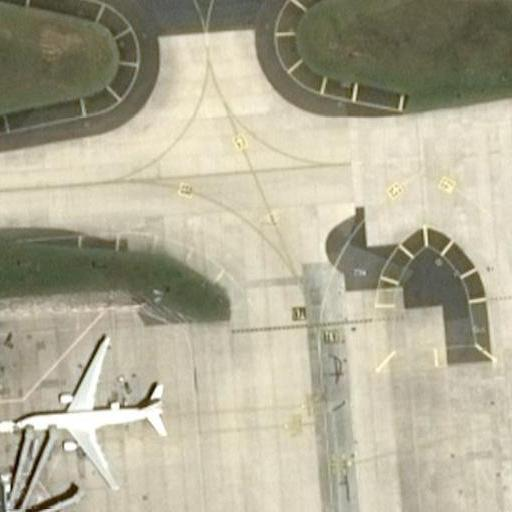Aircraft: (5, 350, 177, 482)
